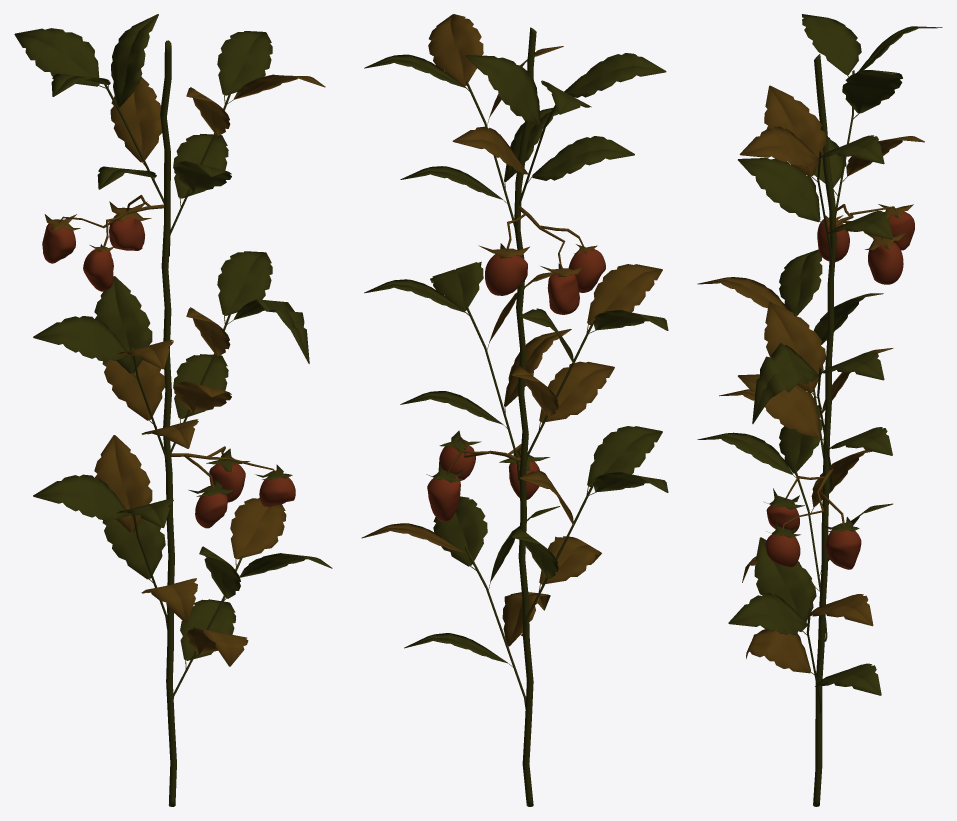
The model's file is TomatePodre.fbx.
3 views of the same model, side by side, from view 1: azimuth 30°, elevation 25°; view 2: azimuth 150°, elevation 25°; view 3: azimuth 270°, elevation 25° (orthographic). The views are drawn at different scales.
Visible parts, largest first — view 1: TomatePodre; view 2: TomatePodre; view 3: TomatePodre.
Part boxes in pixels (x1=…): TomatePodre: x1=14, y1=14, x2=332, y2=806; TomatePodre: x1=361, y1=14, x2=668, y2=806; TomatePodre: x1=697, y1=14, x2=942, y2=806.
Bounding box in the file's own units: 49.83 × 133 × 39.33.
